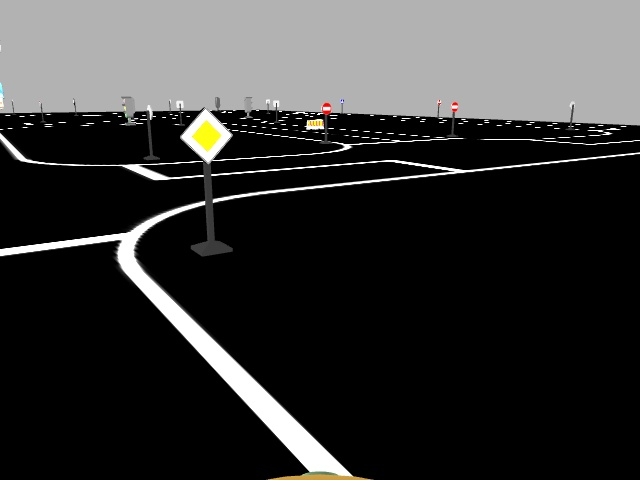ClosedRoadStand: (303, 117, 325, 130)
NoEntry: (318, 101, 331, 114), (447, 101, 459, 113)
Priority: (176, 106, 233, 164)
